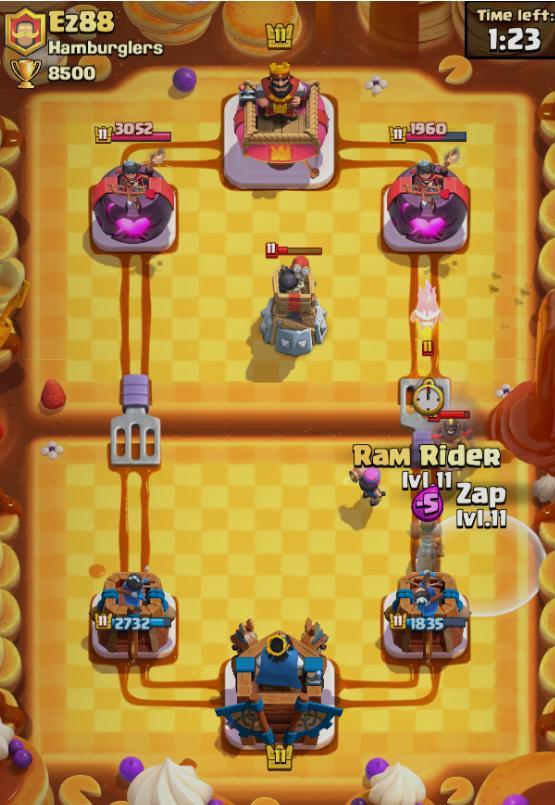EBombertower: (259, 255, 326, 356)
EHogRider: (429, 410, 475, 443)
EKingTower: (223, 63, 335, 189)
EnemyPrincessTower: (382, 161, 469, 253), (90, 161, 175, 253)
OFirecrack: (349, 466, 385, 505)
OwnKingTower: (216, 619, 341, 750)
OwnPrincessTower: (383, 571, 469, 662), (91, 570, 175, 662)
